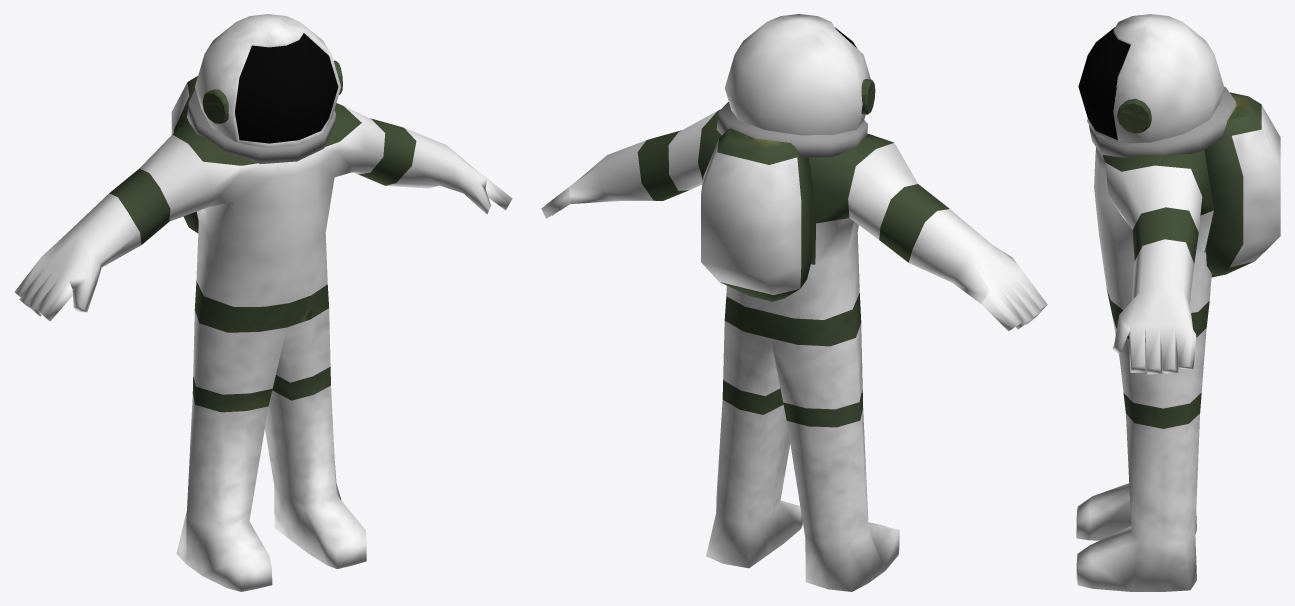
The picture shows the model from 3 angles, left to right: view 1: azimuth 30°, elevation 25°; view 2: azimuth 150°, elevation 25°; view 3: azimuth 270°, elevation 25°; orthographic projection.
Parts seen in each view (by area): view 1: Astronaut; view 2: Astronaut; view 3: Astronaut.
Part boxes in pixels (x1=…): Astronaut: x1=14, y1=14, x2=512, y2=591; Astronaut: x1=541, y1=14, x2=1047, y2=591; Astronaut: x1=1076, y1=14, x2=1280, y2=591.
Bounding box in the file's own units: 165 × 176 × 60.95.
